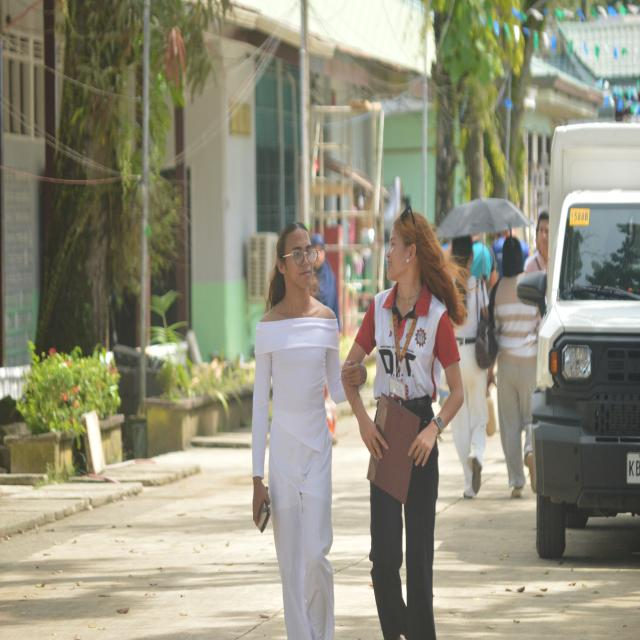person: (349, 208, 464, 639), (252, 223, 345, 639), (490, 238, 539, 497), (451, 236, 489, 498), (312, 233, 342, 331), (524, 211, 549, 273), (492, 230, 512, 278)
